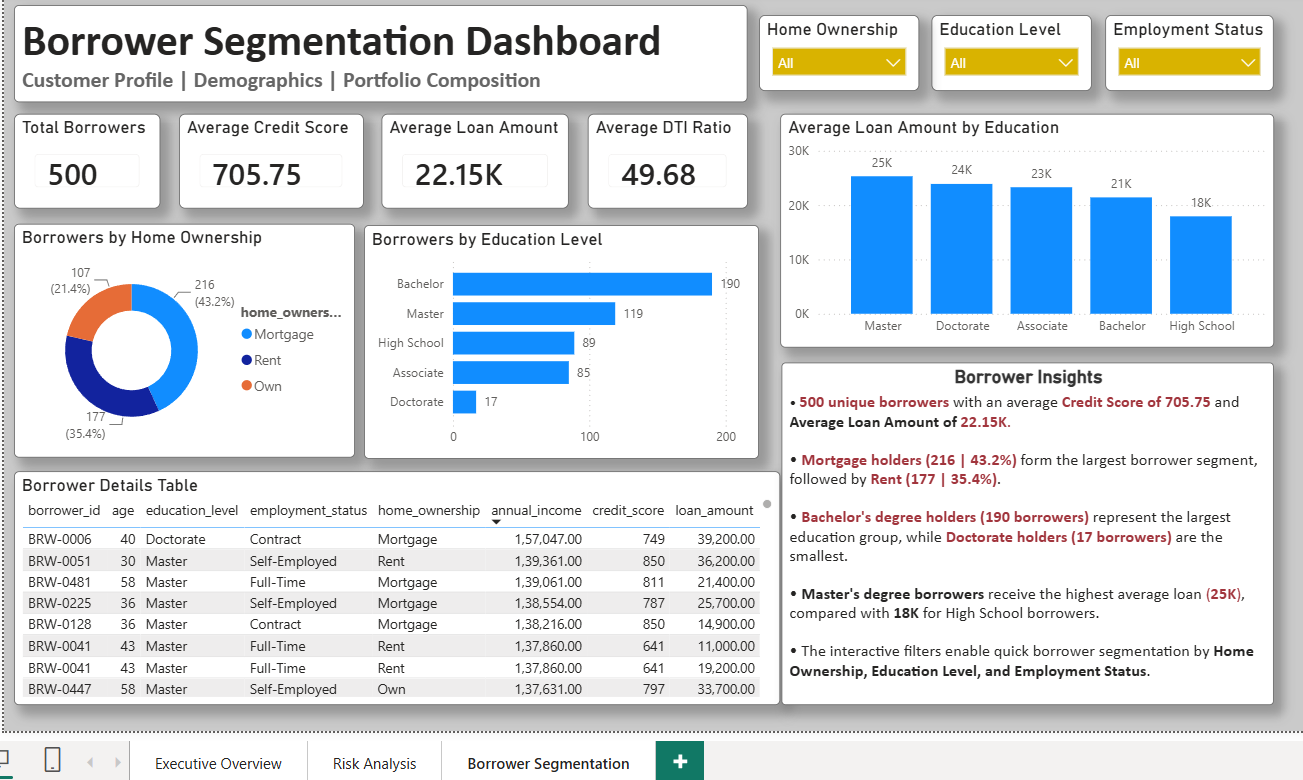

What the dashboard file says about the page in this screenshot:
{"tool":"powerbi","page":{"name":"Borrower Segmentation","canvas":[1280,720],"ordinal":2},"visuals":[{"type":"textbox","box":[9.8,9.8,717.8,95.4],"z":0},{"type":"cardVisual","title":"Total Borrowers","fields":{"Data":["public borrower_risk_summary.Total Borrowers"]},"box":[9.8,116.2,143.1,92.9],"z":1000},{"type":"cardVisual","title":"Average Credit Score","fields":{"Data":["public borrower_risk_summary.Average Credit Score"]},"box":[171.2,116.2,181,92.9],"z":2000},{"type":"cardVisual","title":"Average Loan Amount","fields":{"Data":["public borrower_risk_summary.Average Loan Amount"]},"box":[369.3,116.2,183.4,92.9],"z":3000},{"type":"cardVisual","title":"Average DTI Ratio","fields":{"Data":["public borrower_risk_summary.Average DTI"]},"box":[571.1,116.2,156.5,92.9],"z":4000},{"type":"donutChart","title":"Borrowers by Home Ownership","fields":{"Category":["public borrower_risk_summary.home_ownership"],"Y":["Count(public borrower_risk_summary.borrower_id)"]},"box":[9.8,223.8,333.8,228.7],"z":5000},{"type":"clusteredBarChart","title":"Borrowers by Education Level","fields":{"Y":["Count(public borrower_risk_summary.borrower_id)"],"Category":["public borrower_risk_summary.education_level"]},"box":[352.2,225,386.4,228.7],"z":6000},{"type":"clusteredColumnChart","title":"Average Loan Amount by Education","fields":{"Category":["public borrower_risk_summary.education_level"],"Y":["Avg(public borrower_risk_summary.loan_amount)"]},"box":[759.4,116.2,483,228.7],"z":7000},{"type":"tableEx","title":"Borrower Profile Details","fields":{"Values":["public borrower_risk_summary.borrower_id","public borrower_risk_summary.age","public borrower_risk_summary.education_level","public borrower_risk_summary.employment_status","public borrower_risk_summary.home_ownership","public borrower_risk_summary.annual_income","public borrower_risk_summary.credit_score","public borrower_risk_summary.loan_amount"]},"box":[9.8,465.9,749.6,228.7],"z":8000},{"type":"slicer","title":"Education Level","fields":{"Values":["public borrower_risk_summary.education_level"]},"box":[907.3,19.6,156.5,74.6],"z":9000},{"type":"slicer","title":"Home Ownership","fields":{"Values":["public borrower_risk_summary.home_ownership"]},"box":[738.6,19.6,156.5,74.6],"z":10000},{"type":"slicer","title":"Employment Status","fields":{"Values":["public borrower_risk_summary.employment_status"]},"box":[1077.3,19.6,165.1,74.6],"z":11000},{"type":"textbox","title":"Borrower Insights","box":[760.6,359.5,481.8,335.1],"z":11001}]}

Visuals, with their boxes on the page's 1280x720 design canvas (x1, y1, x2, y2). These are canvas units, not pixel positions in the 1303x780 screenshot, which may show the page scaled, cropped or inside an application window:
textbox: [10, 10, 728, 105]
"Total Borrowers" cardVisual: [10, 116, 153, 209]
"Average Credit Score" cardVisual: [171, 116, 352, 209]
"Average Loan Amount" cardVisual: [369, 116, 553, 209]
"Average DTI Ratio" cardVisual: [571, 116, 728, 209]
"Borrowers by Home Ownership" donutChart: [10, 224, 344, 452]
"Borrowers by Education Level" clusteredBarChart: [352, 225, 739, 454]
"Average Loan Amount by Education" clusteredColumnChart: [759, 116, 1242, 345]
"Borrower Profile Details" tableEx: [10, 466, 759, 695]
"Education Level" slicer: [907, 20, 1064, 94]
"Home Ownership" slicer: [739, 20, 895, 94]
"Employment Status" slicer: [1077, 20, 1242, 94]
"Borrower Insights" textbox: [761, 360, 1242, 695]
